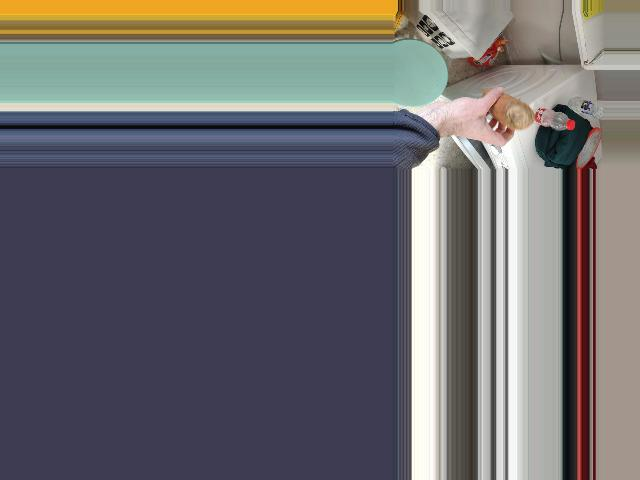sweet_potato: (475, 85, 530, 132)
